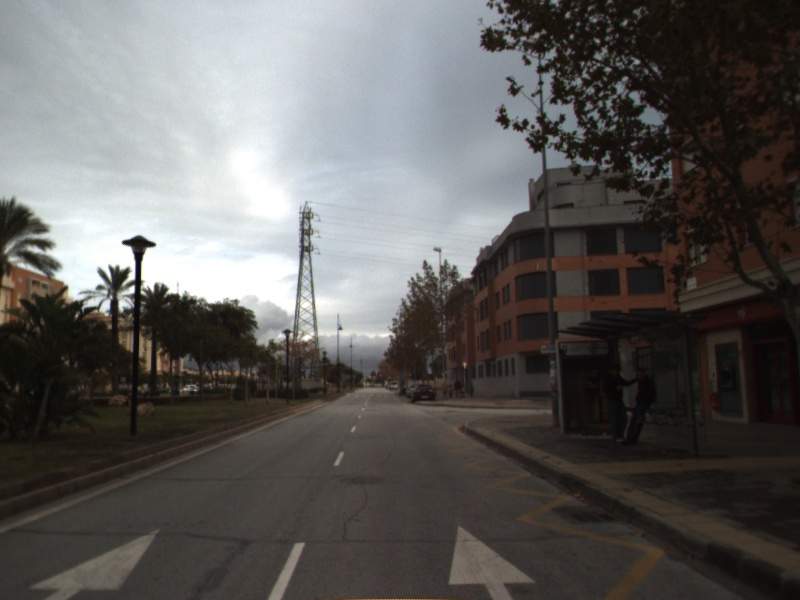STRAIGHT: (26, 525, 164, 600), (445, 523, 538, 600)
